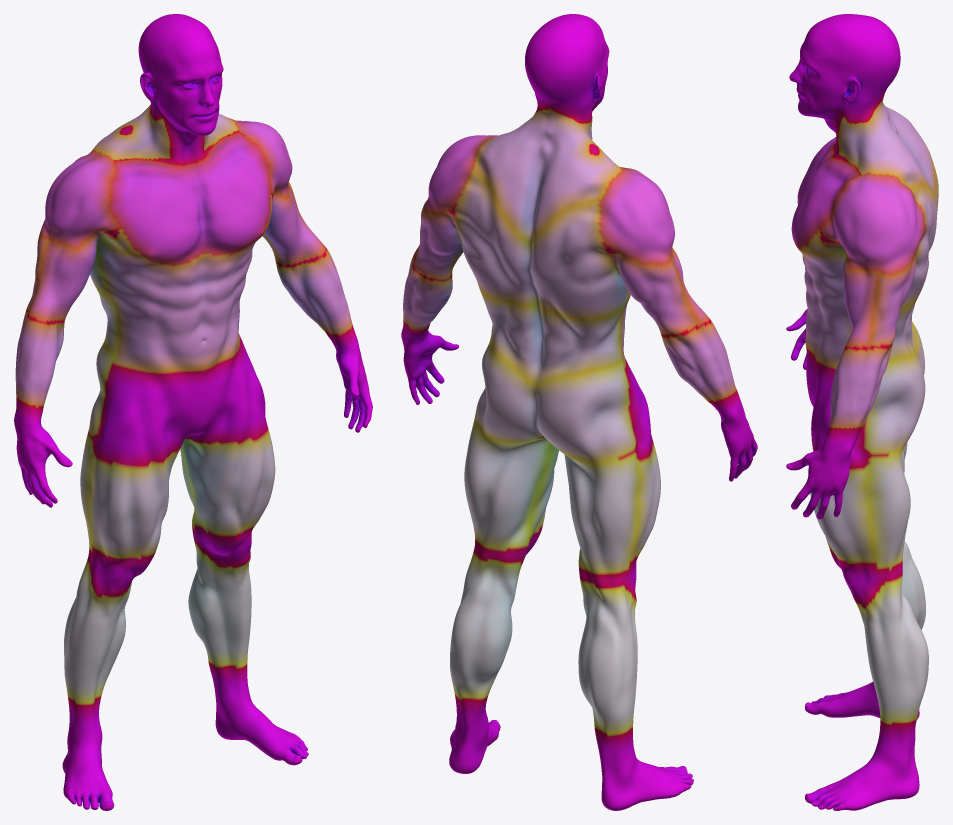
The model's file is body-male.glb.
The picture shows the model from 3 angles, left to right: view 1: azimuth 30°, elevation 25°; view 2: azimuth 150°, elevation 25°; view 3: azimuth 270°, elevation 25°; orthographic projection.
Parts seen in each view (by area): view 1: body; view 2: body; view 3: body.
Boxes of the visible parts, bbox=[...] form: body: bbox=[14, 14, 372, 810]; body: bbox=[401, 14, 757, 810]; body: bbox=[786, 14, 938, 810].
Size of the model in its own units: 0.8493 by 1.8 by 0.3353.
